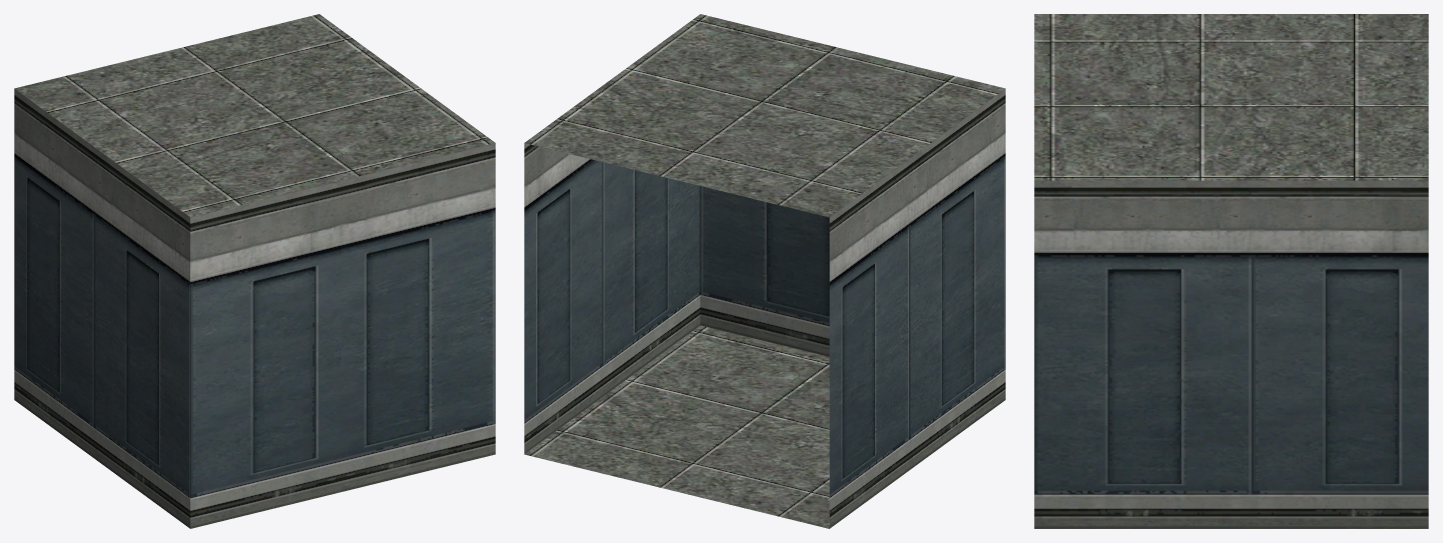
The model's file is thm_corl_imprv_building_s06_r5_spawn3_mesh_r5.fbx.
3 views of the same model, side by side, from view 1: azimuth 30°, elevation 25°; view 2: azimuth 150°, elevation 25°; view 3: azimuth 270°, elevation 25° (orthographic). The views are drawn at different scales.
Parts seen in each view (by area): view 1: mesh_node; view 2: mesh_node; view 3: mesh_node.
Boxes of the visible parts, left/top/right/bottom form: mesh_node: left=14, top=14, right=495, bottom=528; mesh_node: left=524, top=14, right=1005, bottom=528; mesh_node: left=1034, top=14, right=1428, bottom=528.
Bounding box in the file's own units: 4 × 3.9 × 4.
